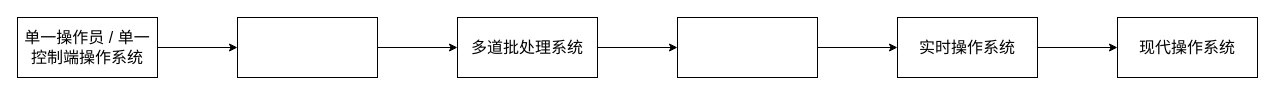
This 1275x95 diagram has some shape labels left out. The shapes that lost their labels are listed below. From the top down, each one's centre as x and y in pixels, then its label:
point 307,47: 批处理系统(单道)
point 747,47: 分时操作系统
